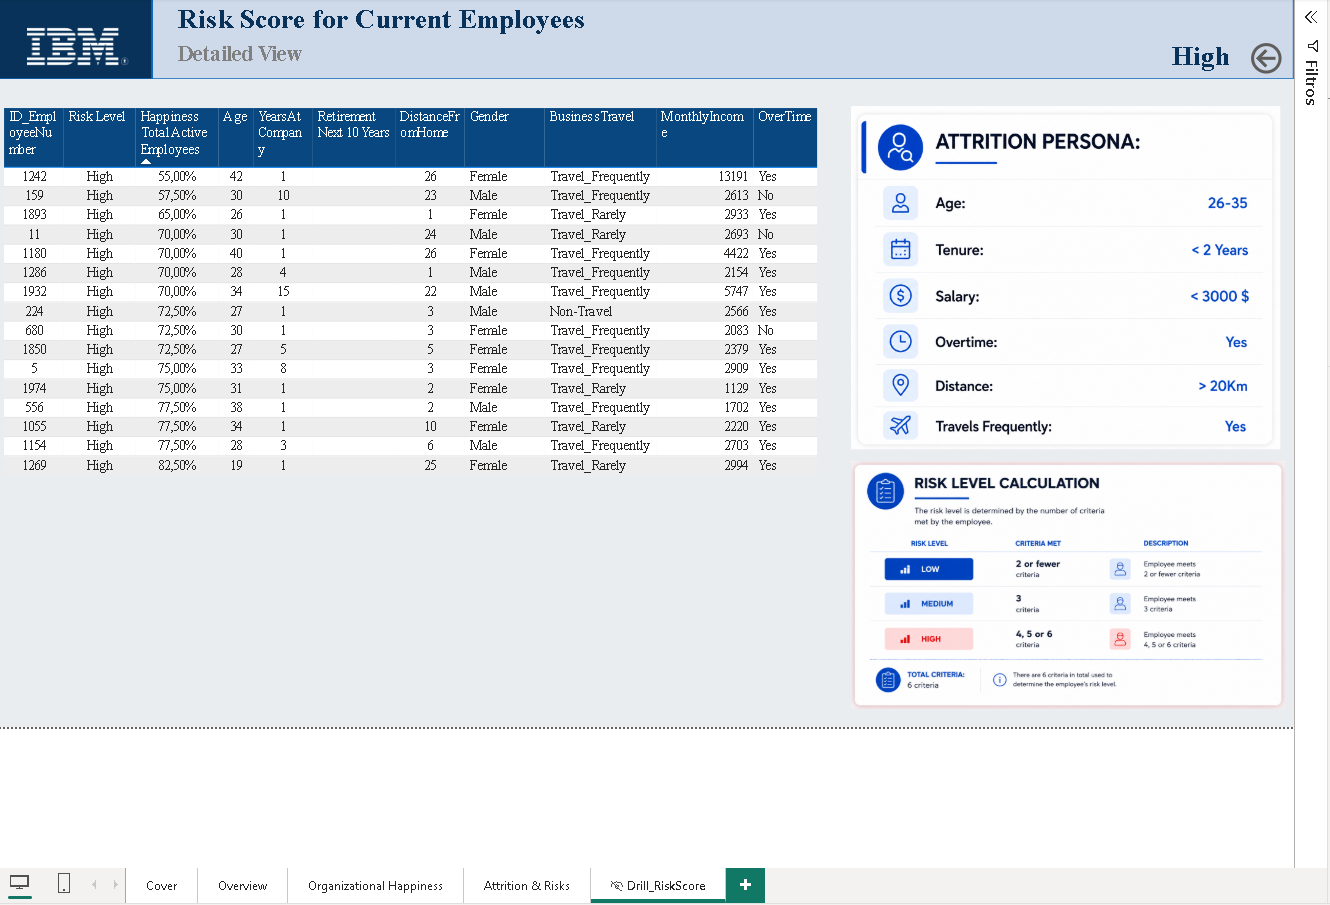

Layout of this report page (visuals, bound fields, positions):
{"tool":"powerbi","page":{"name":"Drill_RiskScore","canvas":[1280,720],"ordinal":4},"visuals":[{"type":"tableEx","fields":{"Values":["F_MovimentoFuncionarios.ID_EmployeeNumber","F_MovimentoFuncionarios.Risk Level","_Medidas.Happiness Total Employees","F_MovimentoFuncionarios.Age","F_MovimentoFuncionarios.YearsAtCompany","F_MovimentoFuncionarios.Retirement Next 10 Years","F_MovimentoFuncionarios.DistanceFromHome","D_Gender.Gender","D_BusinessTravel.BusinessTravel","F_MovimentoFuncionarios.MonthlyIncome","F_MovimentoFuncionarios.OverTime"]},"box":[0,103.4,842.5,602.1],"z":0},{"type":"shape","title":"Detailed View: Risk Score for Current Employees","box":[152.3,0,1127.7,80.3],"z":1000},{"type":"textbox","box":[172.9,0,467.1,51.4],"z":2000},{"type":"shape","box":[0,0,152.3,80.3],"z":3000},{"type":"image","box":[23.1,8,111.7,79.8],"z":4000},{"type":"textbox","box":[172.4,38.8,230.7,37.7],"z":5000},{"type":"image","box":[842.5,456.7,429.1,247.6],"z":6000},{"type":"image","box":[842.4,101.9,428.9,349.1],"z":7000},{"type":"cardVisual","title":"Level of Risk","fields":{"Data":["Min(F_MovimentoFuncionarios.Risk Level)"]},"box":[1079.4,25.7,154.3,54.5],"z":8000},{"type":"actionButton","box":[1232.7,39.1,44.2,40.1],"z":9000}]}

Visuals, with their boxes on the page's 1280x720 design canvas (x1, y1, x2, y2). These are canvas units, not pixel positions in the 1330x905 screenshot, which may show the page scaled, cropped or inside an application window:
tableEx - F_MovimentoFuncionarios.ID_EmployeeNumber x F_MovimentoFuncionarios.Risk Level: box=[0, 103, 842, 706]
"Detailed View: Risk Score for Current Employees" shape: box=[152, 0, 1280, 80]
textbox: box=[173, 0, 640, 51]
shape: box=[0, 0, 152, 80]
image: box=[23, 8, 135, 88]
textbox: box=[172, 39, 403, 76]
image: box=[842, 457, 1272, 704]
image: box=[842, 102, 1271, 451]
"Level of Risk" cardVisual: box=[1079, 26, 1234, 80]
actionButton: box=[1233, 39, 1277, 79]
